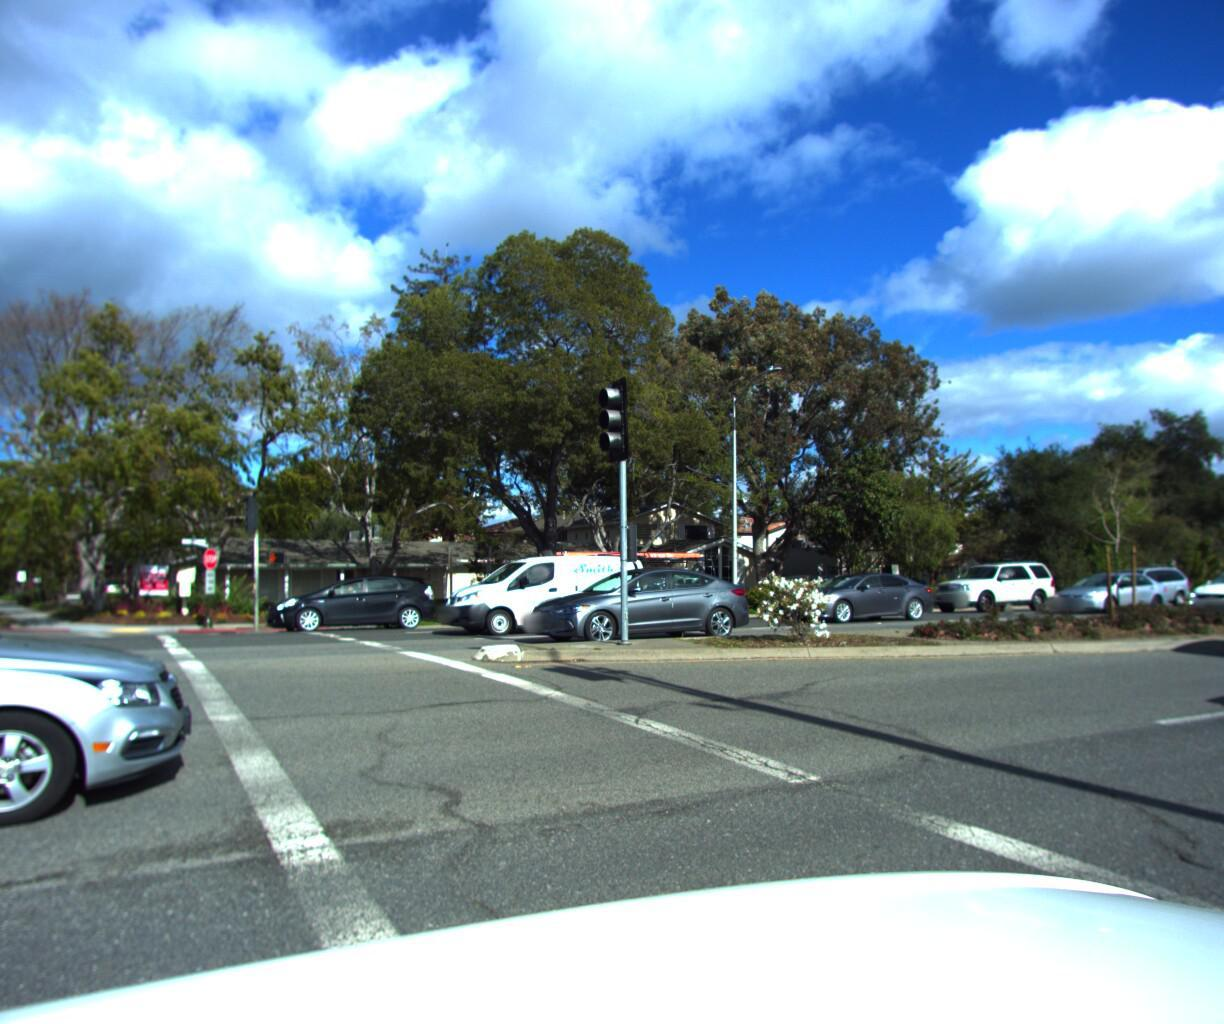car: (0, 559, 229, 961), (515, 569, 758, 654), (505, 551, 729, 639), (429, 557, 646, 647), (258, 576, 442, 647), (773, 573, 941, 631), (920, 564, 1056, 618), (1042, 574, 1166, 615), (1073, 569, 1188, 611), (1172, 568, 1224, 618)
